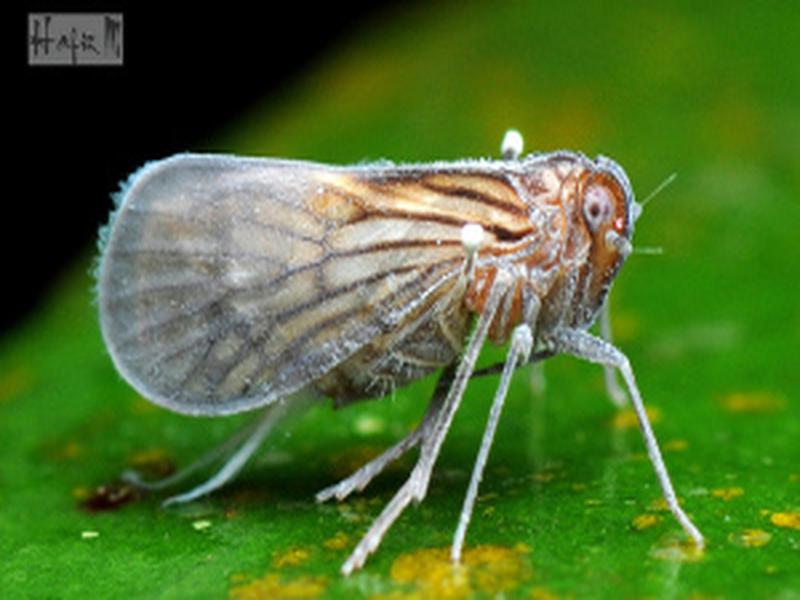White_backed_plant_hopper: (91, 136, 654, 445)
